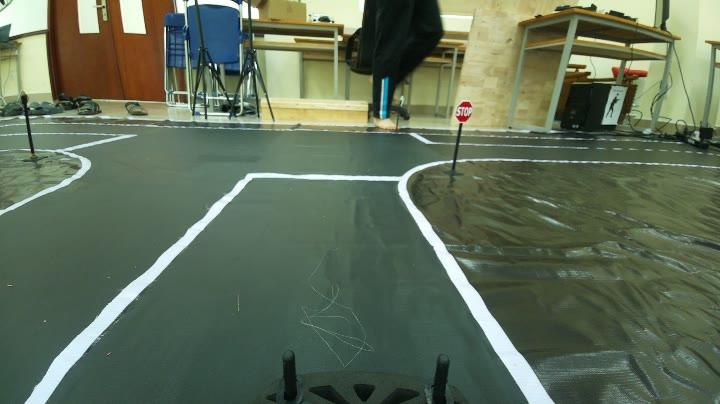stop: (447, 95, 474, 126)
